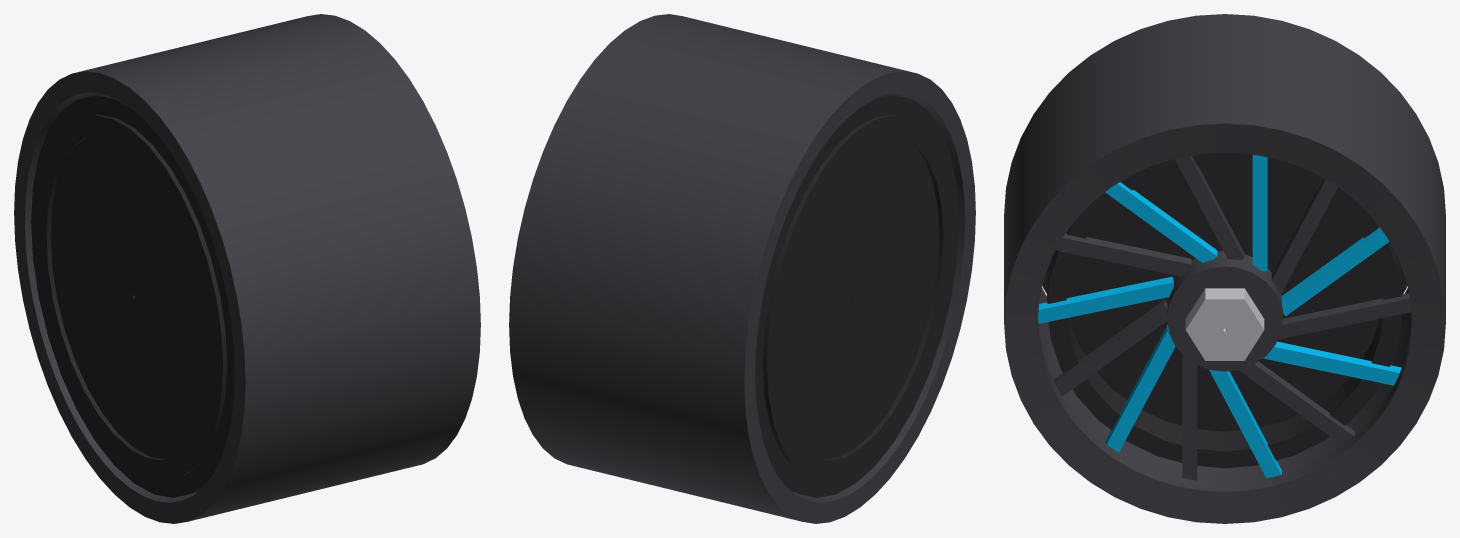
File: turbine_front.glb
3 renders of one model, left to right at view 1: azimuth 30°, elevation 25°; view 2: azimuth 150°, elevation 25°; view 3: azimuth 270°, elevation 25°, orthographic. The views are drawn at different scales.
Parts seen in each view (by area): view 1: Rim_turbine_front; view 2: Rim_turbine_front; view 3: Rim_turbine_front.
Boxes of the visible parts, bbox=[...] form: Rim_turbine_front: bbox=[14, 14, 480, 523]; Rim_turbine_front: bbox=[509, 14, 975, 523]; Rim_turbine_front: bbox=[1004, 14, 1445, 523].
Bounding box in the file's own units: 0.293 × 0.472 × 0.472.
